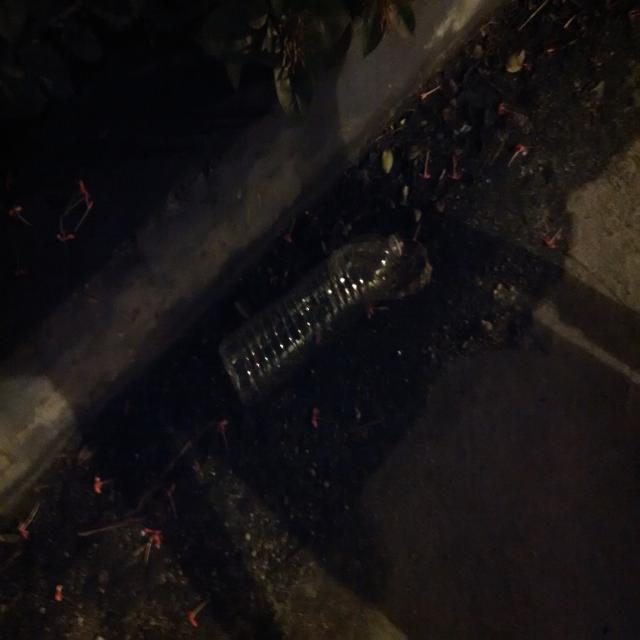Bottle: (212, 212, 422, 394)
